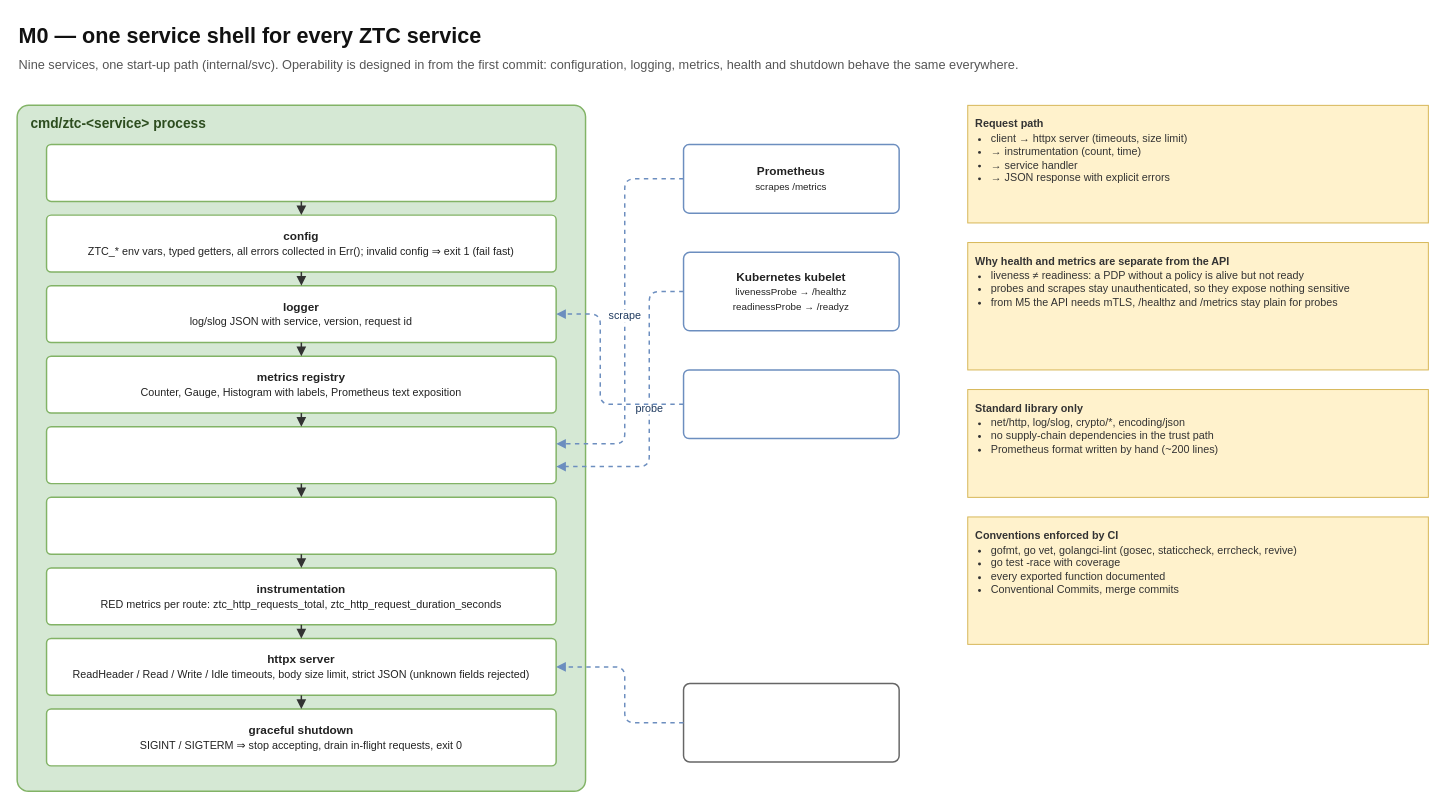
Image size: 1446x809. Some labels were removed from this diagram. The shapes that lost their labels are listed below. From the top down, each one's centre as x and y in pixels, then its label:
At point 300,172: "main() svc.Run(name, register)".
At point 790,404: "Log pipeline JSON lines → SIEM".
At point 300,455: "health mux /healthz liveness · /readyz readiness checks · /metrics".
At point 300,525: "service routes registered by the service, e.g. POST /v1/decide".
At point 790,722: "Operator / CI make build test lint curl :8181/healthz".
